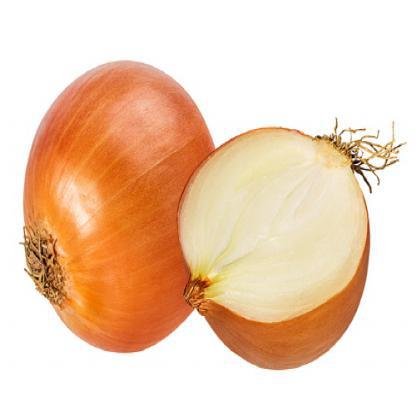onion: (26, 51, 218, 345), (180, 128, 376, 372)
